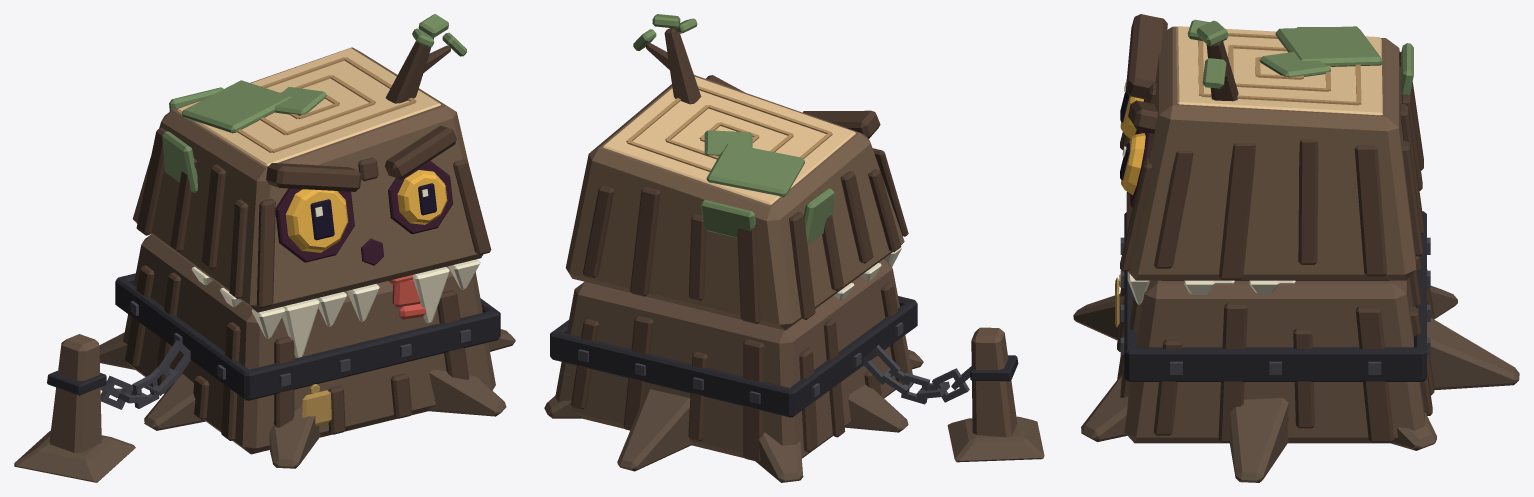
The model's file is Gnawbert.gltf.
3 views of the same model, side by side, from view 1: azimuth 30°, elevation 25°; view 2: azimuth 150°, elevation 25°; view 3: azimuth 270°, elevation 25° (orthographic). The views are drawn at different scales.
Visible parts, largest first — view 1: Lid, Trunk, LidRidge, Collar, Root, Rings, Ridge, Moss, Fangs, Eye, LidGum, Chain (+4 smaller); view 2: Lid, Trunk, LidRidge, Root, Collar, Rings, Ridge, Moss, Chain, RingLines; view 3: Lid, Trunk, LidRidge, Root, Collar, Ridge, Rings, Moss, RingLines, Eye, Chain, Fangs.
Boxes of the visible parts, left/top/right/bottom form: Lid: left=133, top=47, right=482, bottom=312; Trunk: left=49, top=235, right=495, bottom=454; LidRidge: left=136, top=38, right=491, bottom=308; Collar: left=47, top=273, right=500, bottom=400; Root: left=14, top=329, right=515, bottom=482; Rings: left=177, top=48, right=440, bottom=166; Ridge: left=125, top=265, right=468, bottom=440; Moss: left=162, top=14, right=466, bottom=192; Fangs: left=191, top=259, right=480, bottom=357; Eye: left=285, top=170, right=447, bottom=252; LidGum: left=275, top=160, right=453, bottom=265; Chain: left=100, top=301, right=470, bottom=409; Lid: left=565, top=75, right=904, bottom=330; Trunk: left=555, top=259, right=1017, bottom=458; LidRidge: left=583, top=28, right=908, bottom=323; Root: left=544, top=349, right=1044, bottom=482; Collar: left=550, top=296, right=1018, bottom=417; Rings: left=602, top=77, right=855, bottom=204; Ridge: left=571, top=282, right=908, bottom=461; Moss: left=633, top=14, right=834, bottom=244; Chain: left=578, top=322, right=971, bottom=404; RingLines: left=626, top=86, right=832, bottom=171; Lid: left=1126, top=26, right=1416, bottom=280; Trunk: left=1124, top=278, right=1425, bottom=443; LidRidge: left=1120, top=14, right=1423, bottom=279; Root: left=1073, top=285, right=1519, bottom=482; Collar: left=1124, top=211, right=1426, bottom=381; Ridge: left=1117, top=256, right=1434, bottom=442; Rings: left=1176, top=26, right=1382, bottom=115; Moss: left=1187, top=19, right=1413, bottom=95; RingLines: left=1198, top=33, right=1361, bottom=105; Eye: left=1120, top=96, right=1145, bottom=195; Chain: left=1120, top=237, right=1430, bottom=374; Fangs: left=1127, top=271, right=1279, bottom=304.
Bounding box in the file's own units: 17.33 × 11.8 × 11.71.
